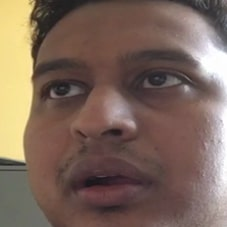awake: (27, 47, 208, 219)
